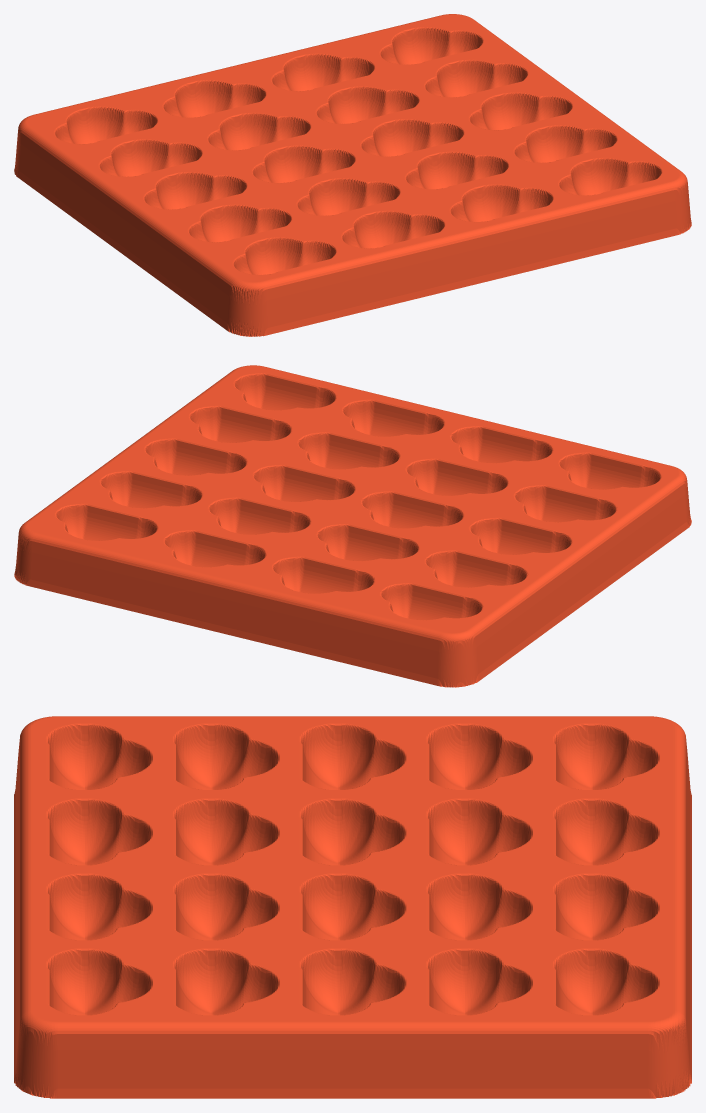
Rendered from mold.glb.
3 views of the same model, one above another, from view 1: azimuth 30°, elevation 25°; view 2: azimuth 150°, elevation 25°; view 3: azimuth 270°, elevation 25° (orthographic). The views are drawn at different scales.
Visible parts, largest first — view 1: geometry_0; view 2: geometry_0; view 3: geometry_0.
Part boxes in pixels (bbox=[...]): geometry_0: bbox=[14, 14, 691, 336]; geometry_0: bbox=[14, 365, 691, 687]; geometry_0: bbox=[14, 716, 691, 1098].
Size of the model in its own units: 0.1563 by 0.0159 by 0.1403.
